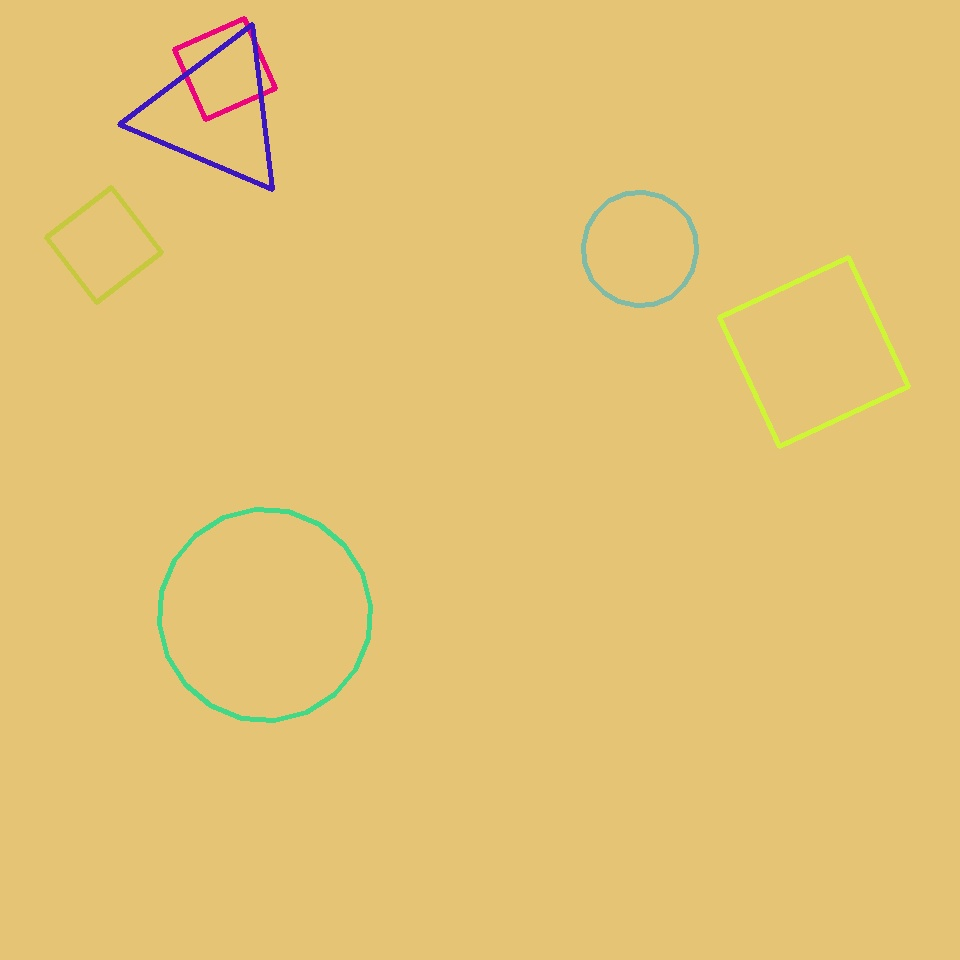circle: (138, 30, 292, 196)
square: (720, 257, 908, 446), (46, 187, 162, 302), (174, 18, 276, 120)
triangle: (160, 510, 371, 720), (584, 193, 696, 306)
